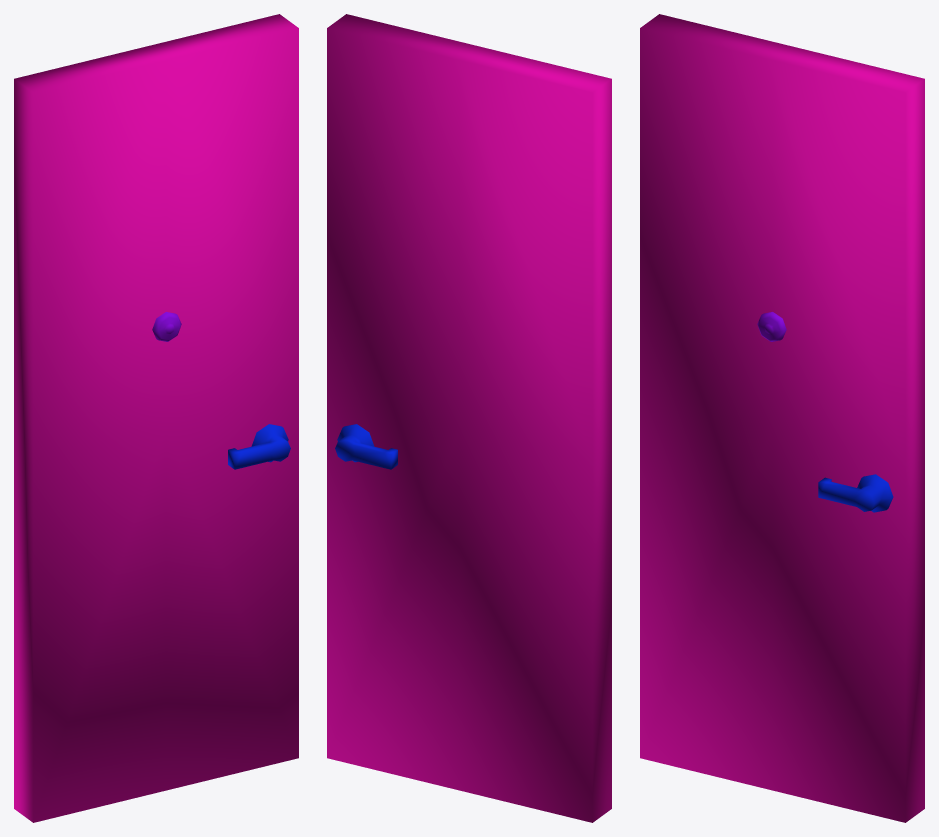
File: SM_Door_01.fbx
3 renders of one model, left to right at view 1: azimuth 30°, elevation 25°; view 2: azimuth 150°, elevation 25°; view 3: azimuth 330°, elevation 25°, orthographic.
Parts seen in each view (by area): view 1: SM_Door_01; view 2: SM_Door_01; view 3: SM_Door_01.
Part boxes in pixels (x1=…): SM_Door_01: x1=14, y1=14, x2=298, y2=822; SM_Door_01: x1=327, y1=14, x2=611, y2=822; SM_Door_01: x1=640, y1=14, x2=924, y2=822.
Bounding box in the file's own units: 98.17 × 258 × 27.15.
